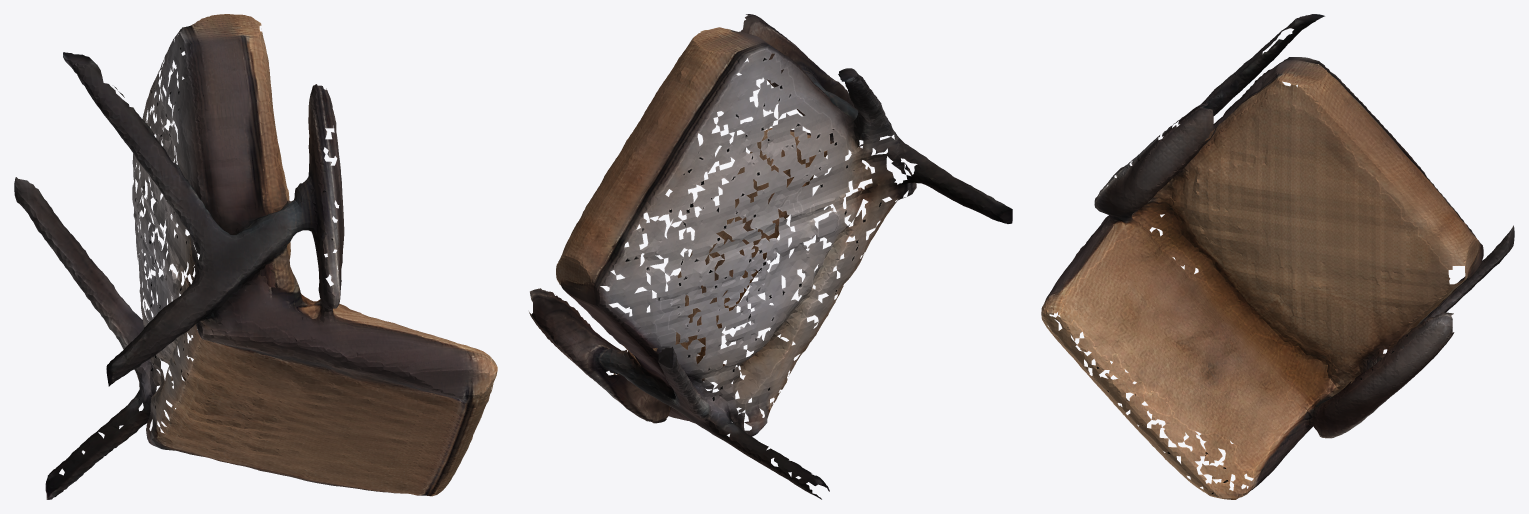
The model's file is generated-chair.glb.
3 views of the same model, side by side, from view 1: azimuth 30°, elevation 25°; view 2: azimuth 150°, elevation 25°; view 3: azimuth 270°, elevation 25° (orthographic). The views are drawn at different scales.
Parts seen in each view (by area): view 1: world; view 2: world; view 3: world.
Part boxes in pixels (left/top/right/bottom): world: left=14, top=14, right=497, bottom=499; world: left=529, top=14, right=1012, bottom=499; world: left=1041, top=14, right=1514, bottom=499.
Size of the model in its own units: 0.9796 by 1.1 by 1.3.
Materials: 1 (1 with a texture image).
